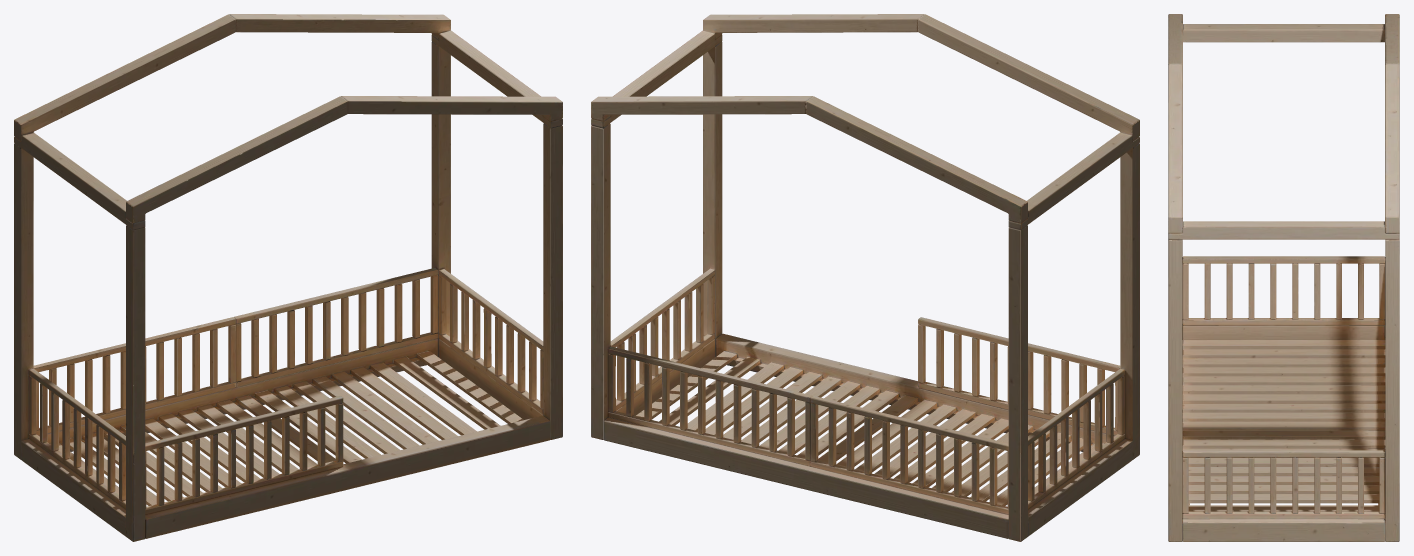
3 views of the same model, side by side, from view 1: azimuth 30°, elevation 25°; view 2: azimuth 150°, elevation 25°; view 3: azimuth 270°, elevation 25° (orthographic). The views are drawn at different scales.
Visible parts, largest first — view 1: 200x90; view 2: 200x90; view 3: 200x90.
Part boxes in pixels (<box>): 200x90: <box>14,14,562,541</box>; 200x90: <box>591,14,1139,541</box>; 200x90: <box>1168,14,1399,541</box>.
Bounding box in the file's own units: 2.02 × 1.74 × 0.97.
Materials: 1 (1 with a texture image).
